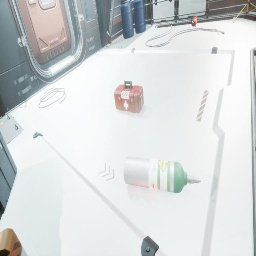0: (124, 156, 201, 193)
FireExtinguisher ]: (190, 16, 198, 27)
FirstAidBox ,: (114, 81, 144, 113)
SafetySwitchPanel ,: (152, 1, 157, 24)
